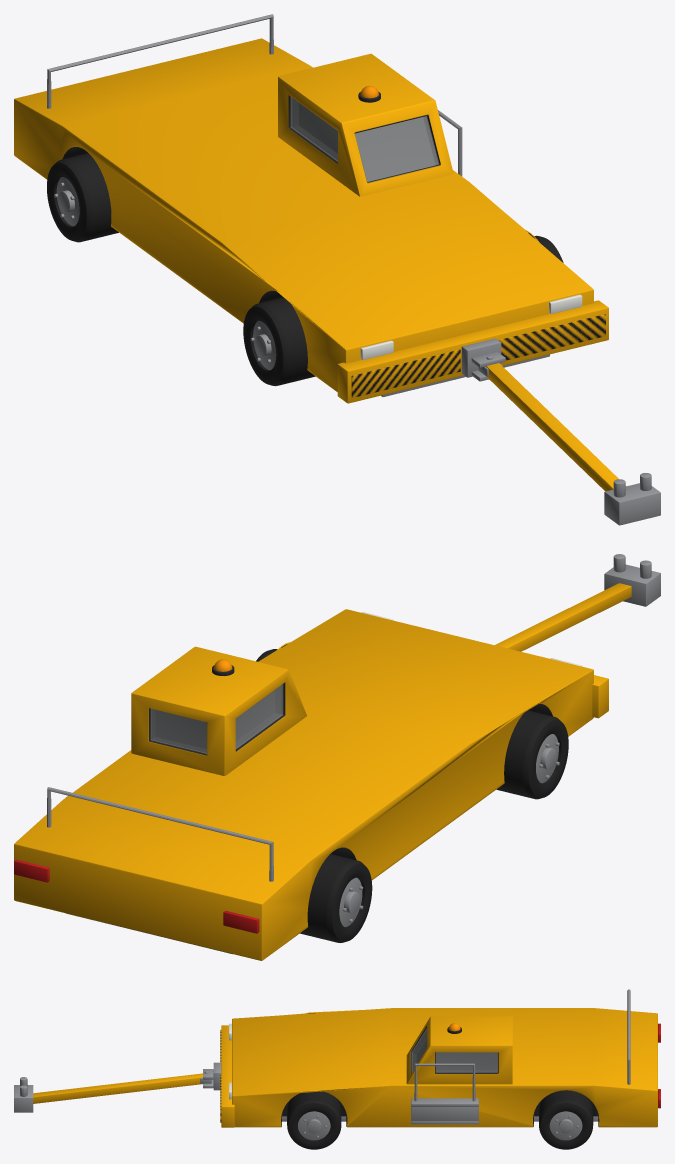
File: indo-thai.glb
3 renders of one model, top to bottom at view 1: azimuth 30°, elevation 25°; view 2: azimuth 150°, elevation 25°; view 3: azimuth 270°, elevation 25°, orthographic. The views are drawn at different scales.
Parts seen in each view (by area): view 1: tug, wheels, towbar; view 2: tug, wheels, towbar; view 3: tug, wheels, towbar.
Boxes of the visible parts, <box> form: tug: <box>14,14,608,403</box>; wheels: <box>47,153,563,386</box>; towbar: <box>478,363,660,525</box>; tug: <box>14,609,608,960</box>; wheels: <box>66,649,568,942</box>; towbar: <box>495,554,660,651</box>; tug: <box>203,989,660,1127</box>; wheels: <box>287,1090,593,1149</box>; towbar: <box>14,1073,211,1112</box>.
Size of the model in its own units: 2.23 by 1.2 by 6.68.
4 materials, 3 textured.
